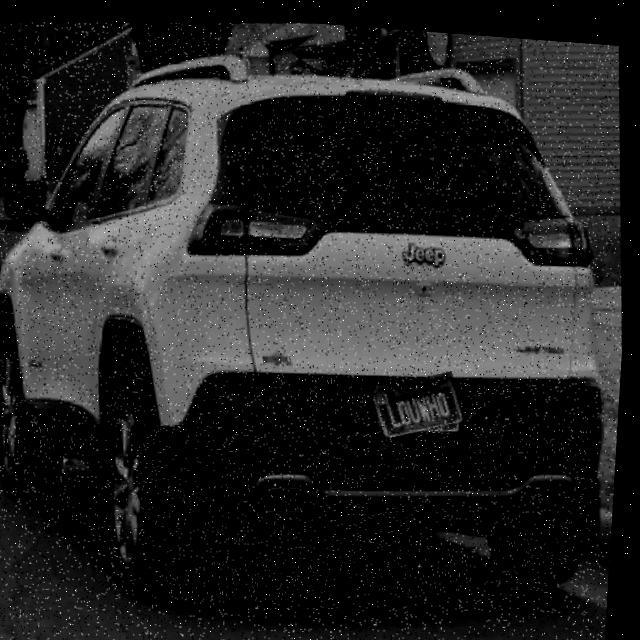LicensePlate: (375, 363, 468, 433)
